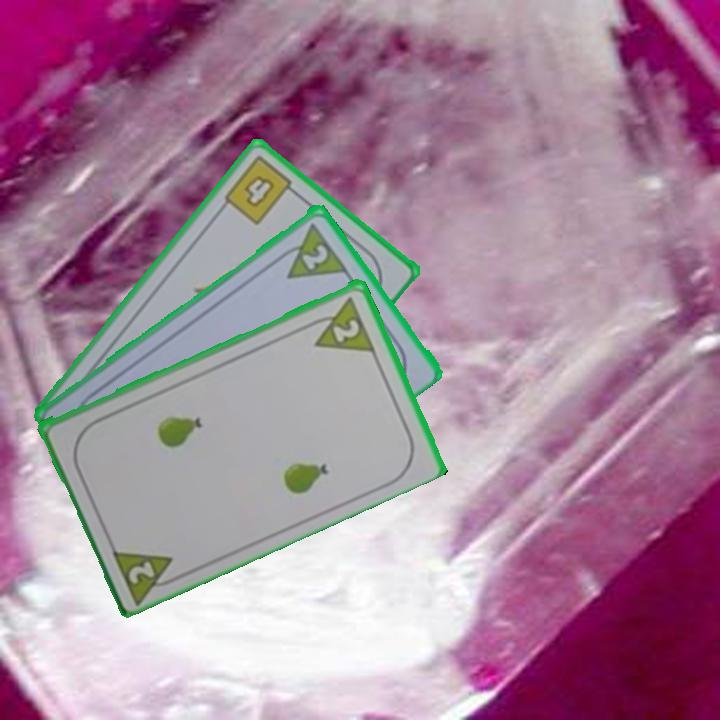2p: (271, 218, 350, 282), (107, 542, 186, 604), (303, 292, 378, 355)
4b: (220, 151, 302, 228)
